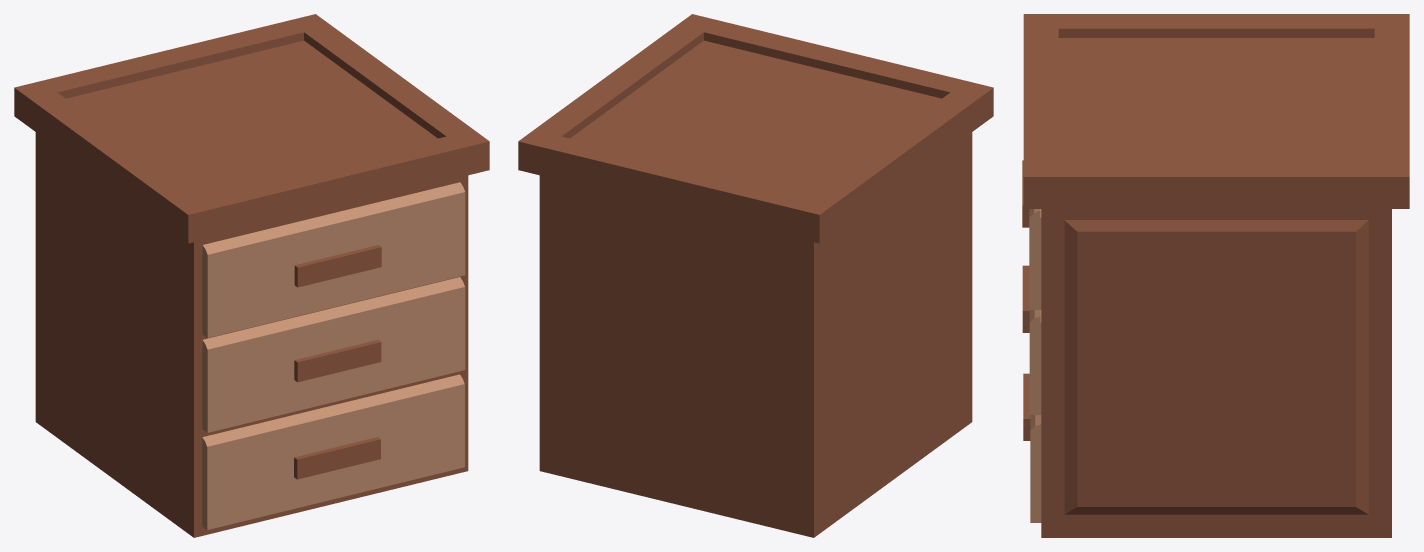
File: NightTable.fbx
3 renders of one model, left to right at view 1: azimuth 30°, elevation 25°; view 2: azimuth 150°, elevation 25°; view 3: azimuth 270°, elevation 25°, orthographic. The views are drawn at different scales.
Visible parts, largest first — view 1: NightTable, DrawerTop, DrawerMiddle, DrawerBottom; view 2: NightTable; view 3: NightTable, DrawerMiddle, DrawerBottom, DrawerTop.
Boxes of the visible parts, <box> form: NightTable: <box>14,14,489,537</box>; DrawerTop: <box>202,182,465,337</box>; DrawerMiddle: <box>202,277,465,432</box>; DrawerBottom: <box>202,374,464,529</box>; NightTable: <box>518,14,993,537</box>; NightTable: <box>1023,14,1409,537</box>; DrawerMiddle: <box>1022,265,1041,414</box>; DrawerBottom: <box>1023,373,1041,522</box>; DrawerTop: <box>1022,160,1041,309</box>.
Bounding box in the file's own units: 0.55 × 0.579 × 0.5519.
